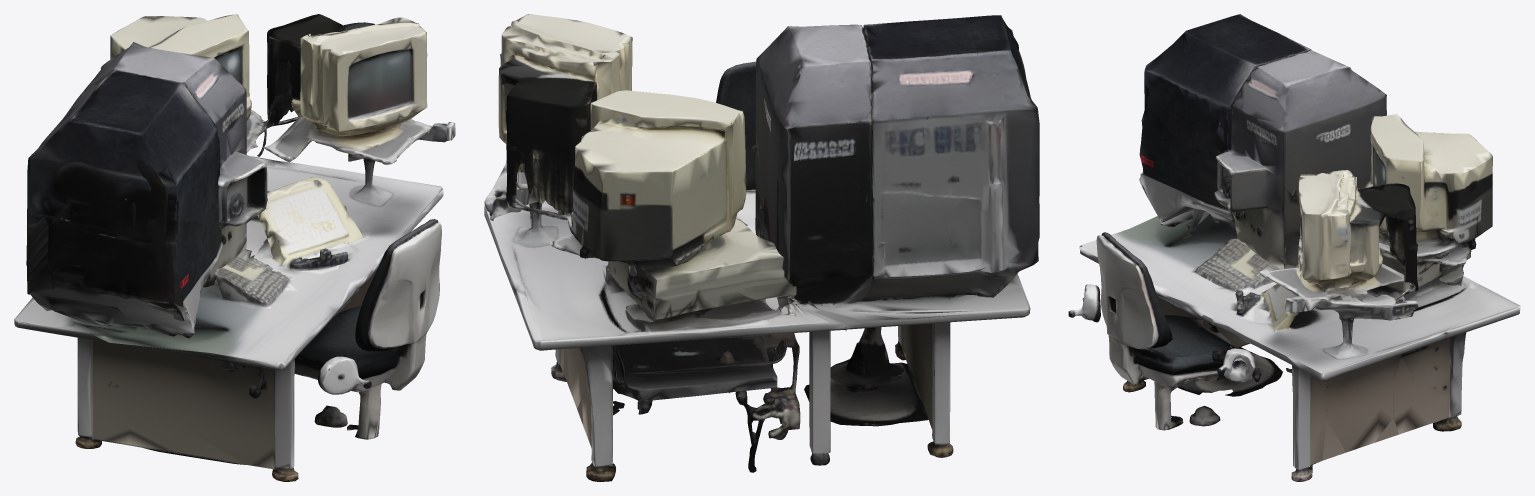
3 views of the same model, side by side, from view 1: azimuth 30°, elevation 25°; view 2: azimuth 150°, elevation 25°; view 3: azimuth 270°, elevation 25° (orthographic). The views are drawn at different scales.
Visible parts, largest first — view 1: geometry_0; view 2: geometry_0; view 3: geometry_0.
Boxes of the visible parts, left/top/right/bottom form: geometry_0: left=14, top=14, right=455, bottom=481; geometry_0: left=484, top=14, right=1039, bottom=481; geometry_0: left=1068, top=14, right=1520, bottom=481.
Bounding box in the file's own units: 1.08 × 0.7976 × 1.06.
Materials: 1 (1 with a texture image).
